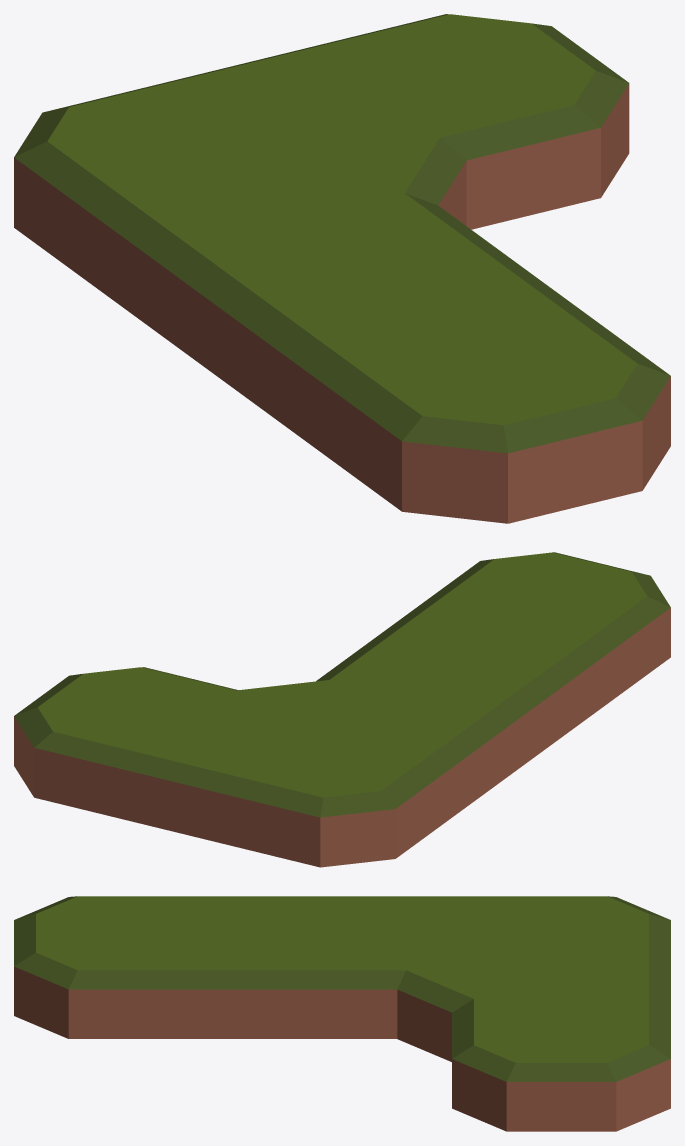
Rendered from TB_Env_Mound_Dm.FBX.
3 views of the same model, one above another, from view 1: azimuth 30°, elevation 25°; view 2: azimuth 150°, elevation 25°; view 3: azimuth 270°, elevation 25° (orthographic). The views are drawn at different scales.
Parts seen in each view (by area): view 1: TB_Env_Mound_Dm; view 2: TB_Env_Mound_Dm; view 3: TB_Env_Mound_Dm.
Part boxes in pixels (x1,y1,x2,y2): TB_Env_Mound_Dm: (14, 14, 670, 523); TB_Env_Mound_Dm: (14, 552, 670, 867); TB_Env_Mound_Dm: (14, 896, 670, 1131).
Bounding box in the file's own units: 20 × 3 × 30.
